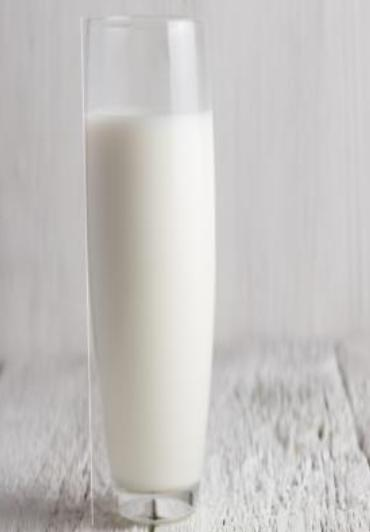produk_susu: (85, 19, 212, 502)
